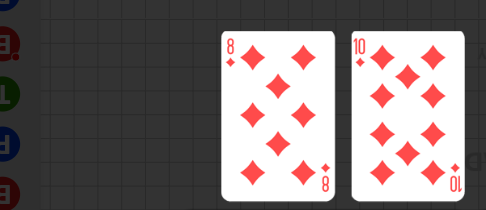10D: (449, 161, 462, 193)
8D: (225, 37, 236, 69)
